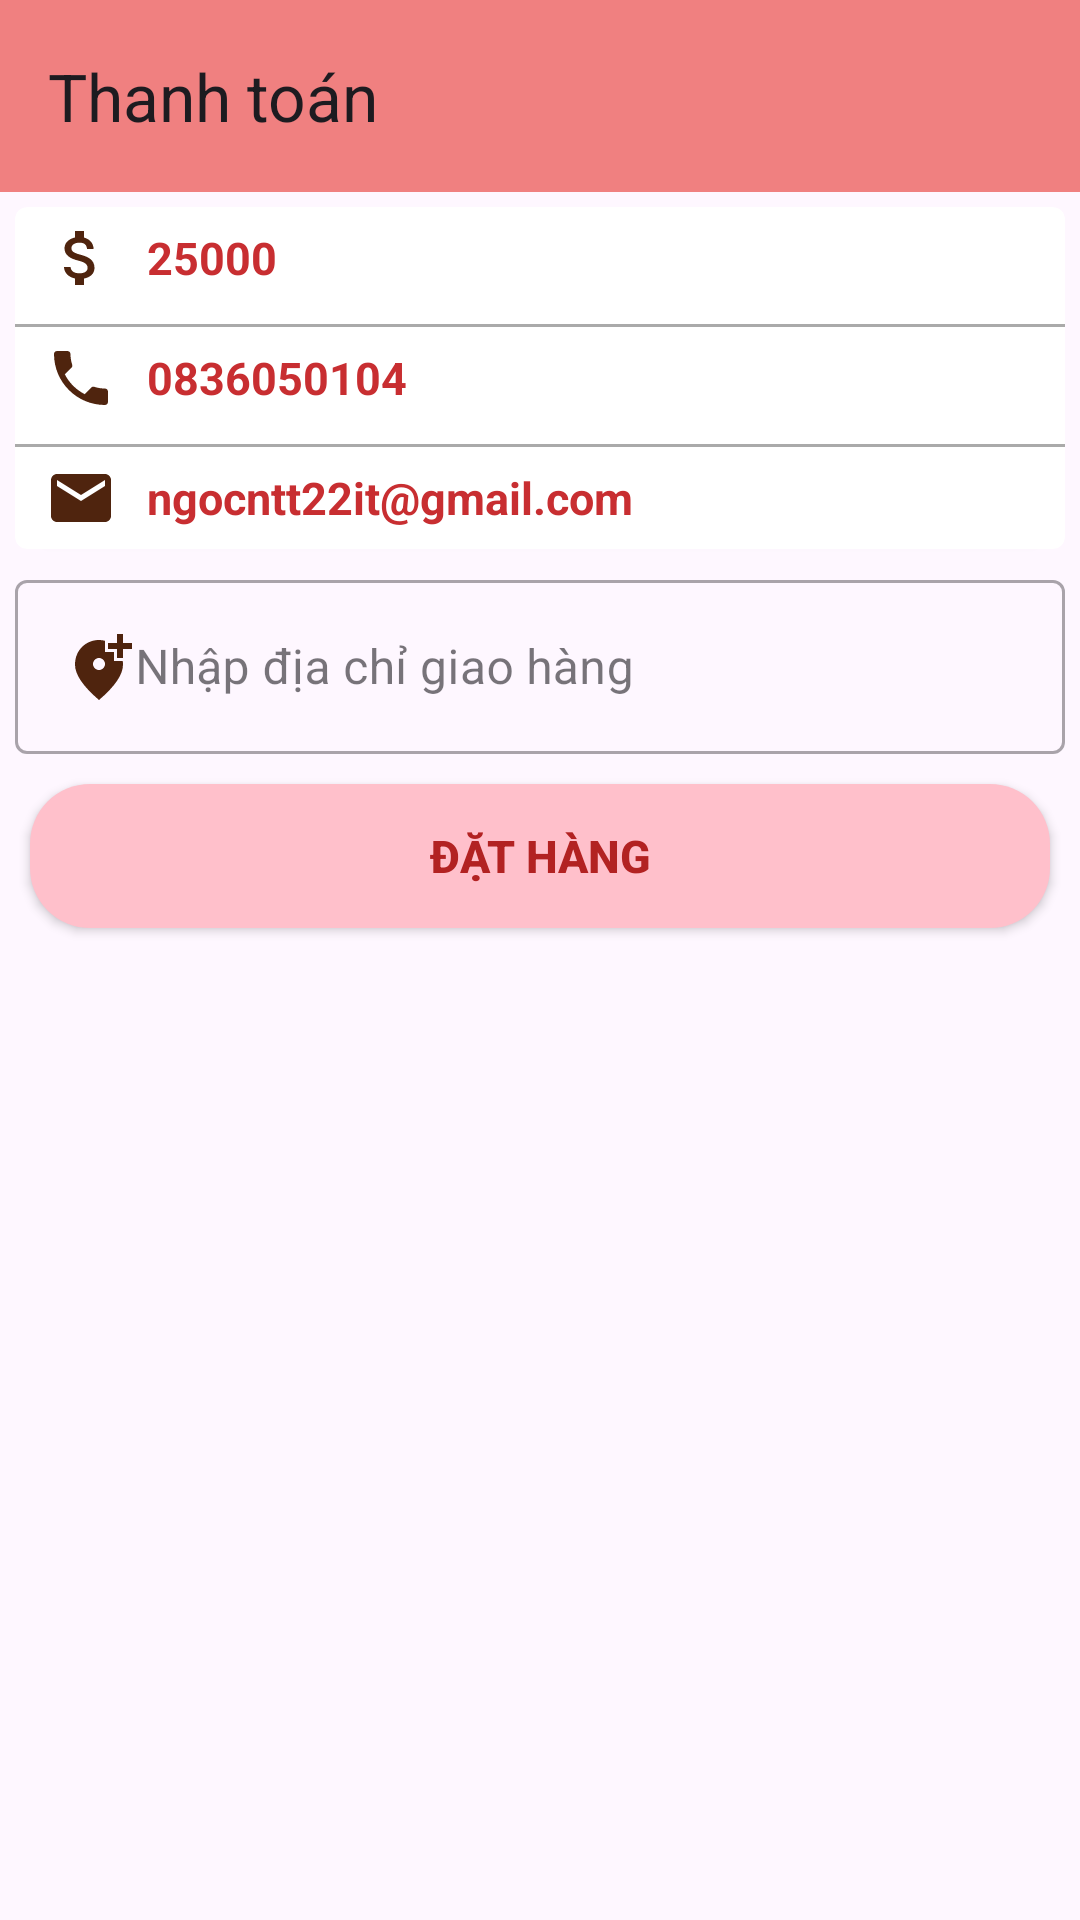

Icons on this 1080×1920 Android screen, each with the point to tap as point (x, y):
attach money: point (79, 258)
email: point (81, 498)
local phone: point (81, 378)
